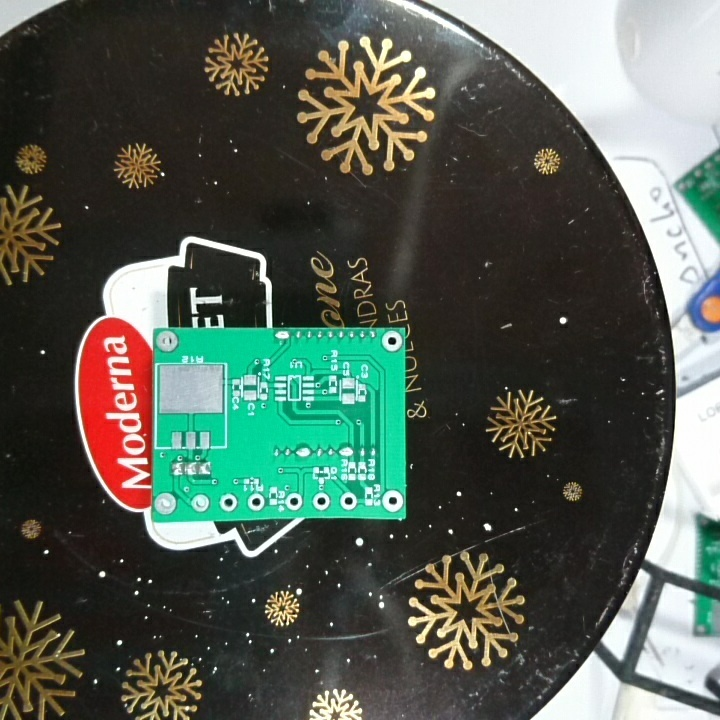F: (154, 490, 180, 518), (154, 329, 181, 355), (379, 329, 403, 354), (189, 491, 212, 517), (380, 488, 403, 514), (282, 490, 305, 513), (245, 490, 267, 514), (338, 490, 359, 513), (218, 492, 238, 515), (311, 490, 331, 512)
P: (292, 443, 314, 460), (337, 443, 356, 461), (272, 328, 290, 342)
